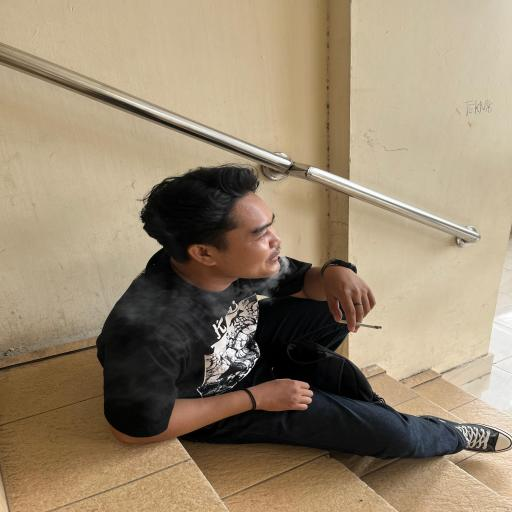pegang rokok: (317, 242, 402, 347)
